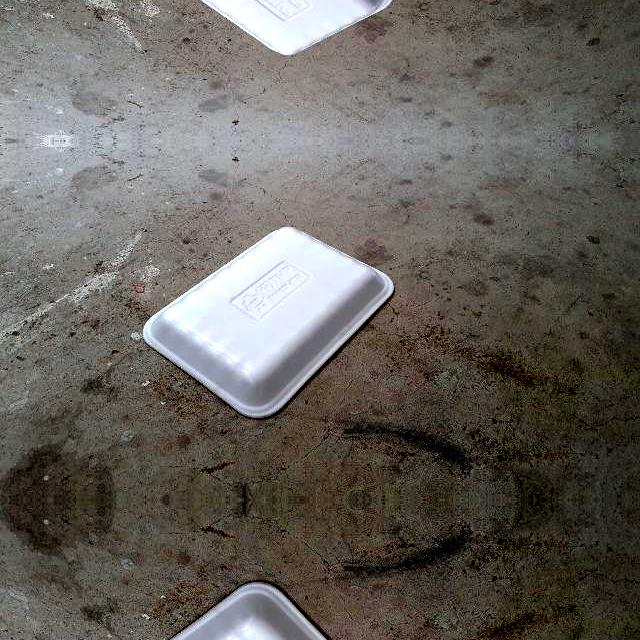Styrofoam: (143, 224, 393, 418), (143, 226, 394, 417), (143, 580, 393, 640), (143, 0, 393, 56), (202, 0, 392, 54), (167, 581, 329, 640)
